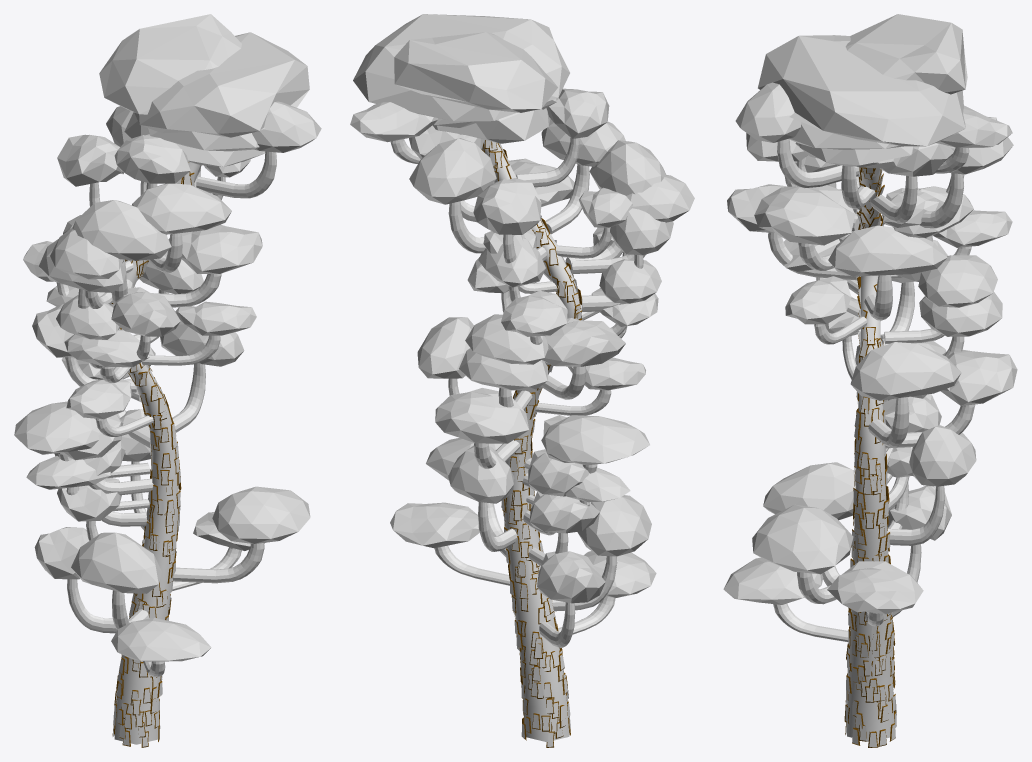
The model's file is Tree10.fbx.
3 views of the same model, side by side, from view 1: azimuth 30°, elevation 25°; view 2: azimuth 150°, elevation 25°; view 3: azimuth 270°, elevation 25° (orthographic). The views are drawn at different scales.
Parts seen in each view (by area): view 1: Tree10; view 2: Tree10; view 3: Tree10.
Boxes of the visible parts, x1,y1,x2,y2 form: Tree10: (14,14,321,747); Tree10: (350,14,694,747); Tree10: (723,14,1017,747).
Size of the model in its own units: 773 by 1778 by 640.
